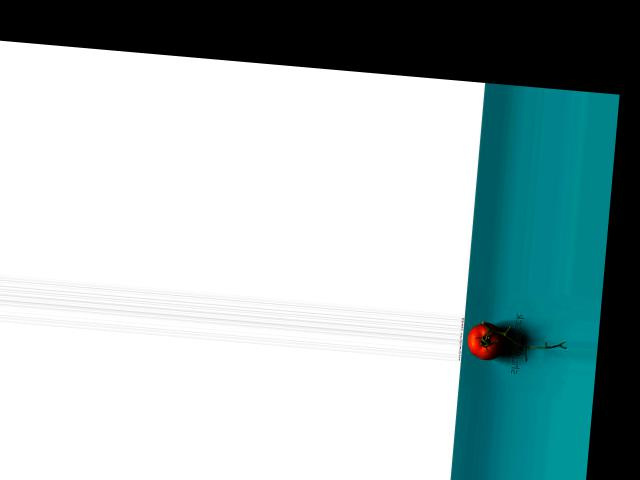tomato: (466, 320, 506, 361)
